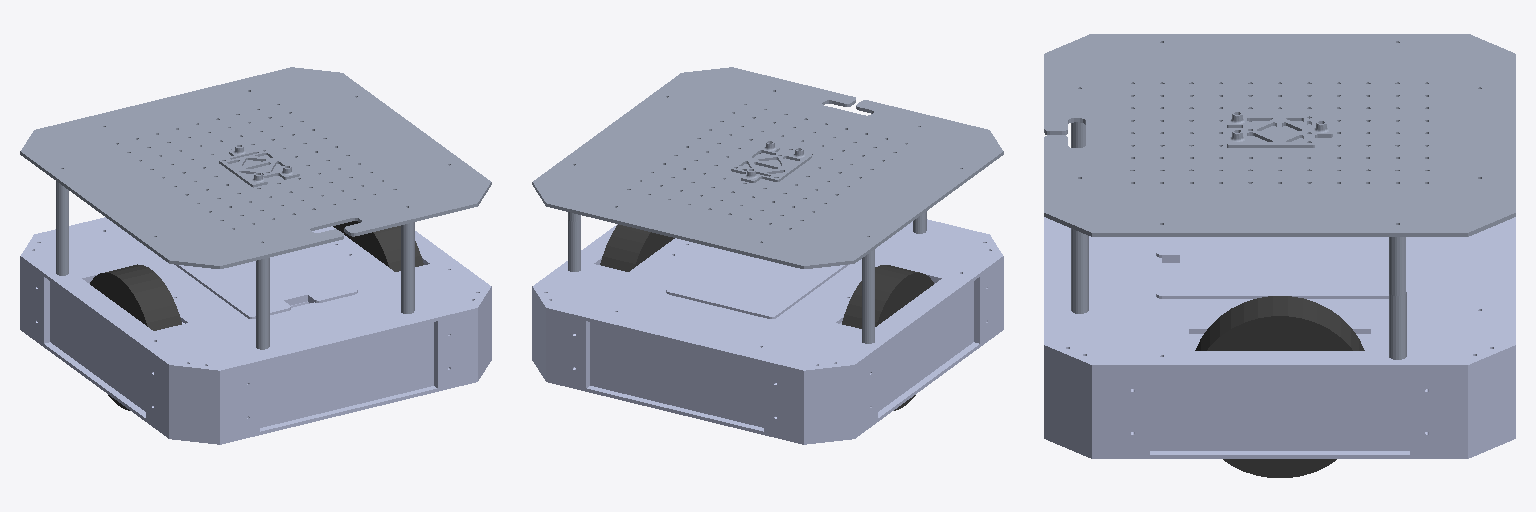
robot.urdf — rct_ahr_description:
<?xml version="1.0" encoding="utf-8"?>
<!-- This URDF was automatically created by SolidWorks to URDF Exporter! Originally created by [author] ([email redacted]) 
     Commit Version: 1.6.0-1-g15f4949  Build Version: 1.6.7594.29634
     For more information, please see http://wiki.ros.org/sw_urdf_exporter -->
<robot
  name="rct_ahr_description">
  <link
    name="base_link">
    <inertial>
      <origin
        xyz="1.69685452020959E-05 0.0457497478555732 -0.000127881974719466"
        rpy="0 0 0" />
      <mass
        value="2.64107586162807" />
      <inertia
        ixx="0.0186325495611102"
        ixy="6.09648655063832E-20"
        ixz="-2.60551727908036E-18"
        iyy="0.0336532757013295"
        iyz="6.41641969106609E-08"
        izz="0.0163379626730466" />
    </inertial>
    <visual>
      <origin
        xyz="0 0 0"
        rpy="0 0 0" />
      <geometry>
        <mesh
          filename="package://rct_ahr_description/meshes/base_link.STL" />
      </geometry>
      <material
        name="">
        <color
          rgba="0.792156862745098 0.819607843137255 0.933333333333333 1" />
      </material>
    </visual>
    <collision>
      <origin
        xyz="0 0 0"
        rpy="0 0 0" />
      <geometry>
        <mesh
          filename="package://rct_ahr_description/meshes/base_link.STL" />
      </geometry>
    </collision>
  </link>
  <link
    name="wheel_r_link">
    <inertial>
      <origin
        xyz="0.0205356528365587 -3.46944695195361E-17 -7.63278329429795E-17"
        rpy="0 0 0" />
      <mass
        value="0.744581931907552" />
      <inertia
        ixx="0.00217124883305853"
        ixy="-2.80970720393053E-19"
        ixz="-5.56639098615751E-19"
        iyy="0.00119000662840789"
        iyz="1.0842021724855E-19"
        izz="0.00119000662840789" />
    </inertial>
    <visual>
      <origin
        xyz="0 0 0"
        rpy="0 0 0" />
      <geometry>
        <mesh
          filename="package://rct_ahr_description/meshes/wheel_r_link.STL" />
      </geometry>
      <material
        name="">
        <color
          rgba="0.298039215686275 0.298039215686275 0.298039215686275 1" />
      </material>
    </visual>
    <collision>
      <origin
        xyz="0 0 0"
        rpy="0 0 0" />
      <geometry>
        <mesh
          filename="package://rct_ahr_description/meshes/wheel_r_link.STL" />
      </geometry>
    </collision>
  </link>
  <joint
    name="base_wheel_r_joint"
    type="fixed">
    <origin
      xyz="0.1295 0 0.044"
      rpy="2.06086483868344 0 0" />
    <parent
      link="base_link" />
    <child
      link="wheel_r_link" />
    <axis
      xyz="0 0 0" />
  </joint>
  <link
    name="wheel_l_link">
    <inertial>
      <origin
        xyz="0.0205356528365587 -1.38777878078145E-17 -2.42861286636753E-17"
        rpy="0 0 0" />
      <mass
        value="0.744581931907553" />
      <inertia
        ixx="0.00217124883305853"
        ixy="8.16623183517196E-21"
        ixz="-4.48485215862205E-21"
        iyy="0.00119000662840789"
        iyz="-1.62630325872826E-19"
        izz="0.00119000662840789" />
    </inertial>
    <visual>
      <origin
        xyz="0 0 0"
        rpy="0 0 0" />
      <geometry>
        <mesh
          filename="package://rct_ahr_description/meshes/wheel_l_link.STL" />
      </geometry>
      <material
        name="">
        <color
          rgba="0.298039215686275 0.298039215686275 0.298039215686275 1" />
      </material>
    </visual>
    <collision>
      <origin
        xyz="0 0 0"
        rpy="0 0 0" />
      <geometry>
        <mesh
          filename="package://rct_ahr_description/meshes/wheel_l_link.STL" />
      </geometry>
    </collision>
  </link>
  <joint
    name="base_wheel_l_joint"
    type="fixed">
    <origin
      xyz="-0.1295 0 0.044"
      rpy="2.06086483868344 0 3.14159265358979" />
    <parent
      link="base_link" />
    <child
      link="wheel_l_link" />
    <axis
      xyz="0 0 0" />
  </joint>
  <link
    name="body_link">
    <inertial>
      <origin
        xyz="0.0173133916564579 -0.129997069220095 -0.191051021869769"
        rpy="0 0 0" />
      <mass
        value="1.76150298162139" />
      <inertia
        ixx="0.0215257936002617"
        ixy="-1.90479306590767E-08"
        ixz="-0.000168786232509948"
        iyy="0.0431429110969045"
        iyz="2.91553340162324E-08"
        izz="0.0216738704774632" />
    </inertial>
    <visual>
      <origin
        xyz="0 0 0"
        rpy="0 0 0" />
      <geometry>
        <mesh
          filename="package://rct_ahr_description/meshes/body_link.STL" />
      </geometry>
      <material
        name="">
        <color
          rgba="0.666666666666667 0.698039215686274 0.768627450980392 1" />
      </material>
    </visual>
    <collision>
      <origin
        xyz="0 0 0"
        rpy="0 0 0" />
      <geometry>
        <mesh
          filename="package://rct_ahr_description/meshes/body_link.STL" />
      </geometry>
    </collision>
  </link>
  <joint
    name="base_body_link"
    type="continuous">
    <origin
      xyz="-0.09 -0.17 0.077"
      rpy="-1.5707963267949 0 2.56288301873173" />
    <parent
      link="base_link" />
    <child
      link="body_link" />
    <axis
      xyz="0 1 0" />
  </joint>
  
</robot>

--- Render facts (derived) ---
3 views of the same robot in one strip: view 1: azimuth 30°, elevation 25°; view 2: azimuth 150°, elevation 25°; view 3: azimuth 270°, elevation 25° (orthographic).
Robot: rct_ahr_description — 4 links, 3 joints (1 continuous, 2 fixed); root link base_link; default pose: all joints at 0.
Visible links, largest first — view 1: base_link, body_link, wheel_l_link, wheel_r_link; view 2: base_link, body_link, wheel_l_link, wheel_r_link; view 3: body_link, base_link, wheel_r_link.
Link boxes in pixels (x1,y1,x2,y2): base_link: [20, 217, 491, 444]; body_link: [20, 67, 491, 349]; wheel_l_link: [90, 264, 181, 410]; wheel_r_link: [333, 221, 423, 271]; base_link: [532, 219, 1003, 444]; body_link: [532, 67, 1003, 343]; wheel_l_link: [842, 265, 933, 410]; wheel_r_link: [600, 224, 674, 271]; body_link: [1044, 34, 1515, 359]; base_link: [1044, 217, 1515, 458]; wheel_r_link: [1195, 296, 1364, 477].
Bounding box of the posed robot: 0.4 × 0.4 × 0.254 m (x, y, z).
4 mesh visuals loaded from 4 distinct referenced files (4 binary STL).